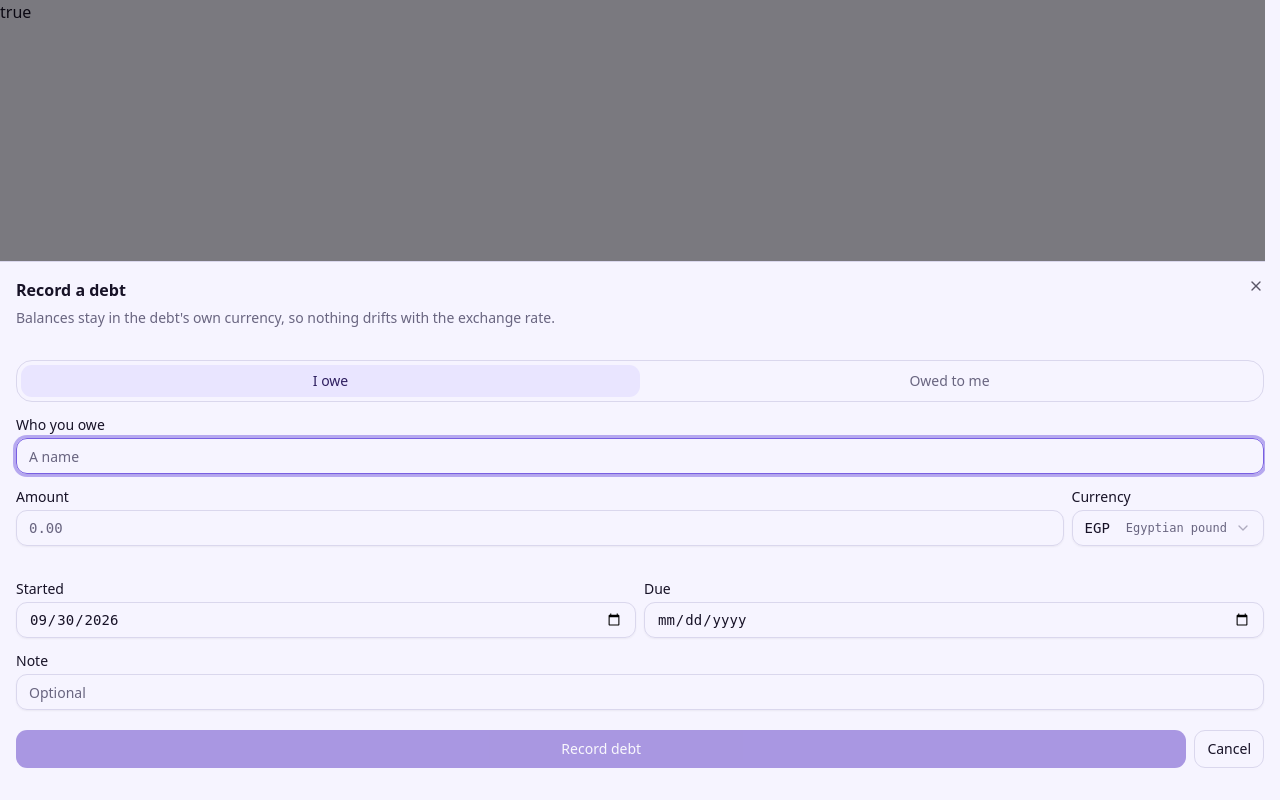
Test: recording one › renames the counterparty field when the direction flips
The width and height of the screenshot is (1280, 800).
Expected: the field labelled "Who you owe" is shown, [16,438,1264,474]
What coordinates should you click on to do the following:
click the button "Owed to me"
I would click on:
 (950, 381)
Its box is [640,365,1259,397].
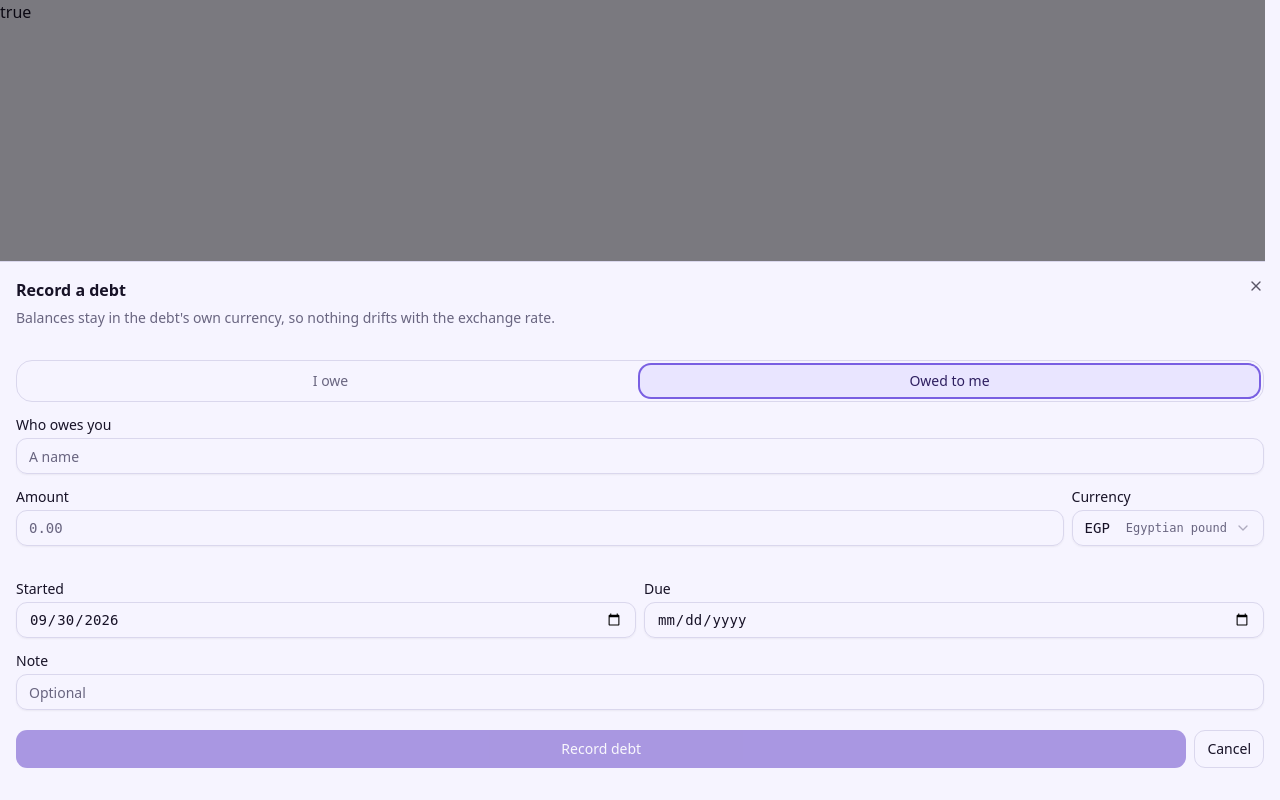
Expected: the field labelled "Who owes you" is shown, [16,438,1264,474]
Now the label labelled "Who you owe" is gone
